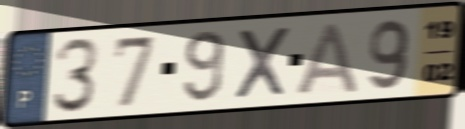3: (51, 35, 101, 116)
7: (110, 35, 158, 110)
9: (182, 28, 228, 105), (366, 17, 412, 92)
A: (293, 20, 362, 98)
X: (232, 23, 293, 103)
